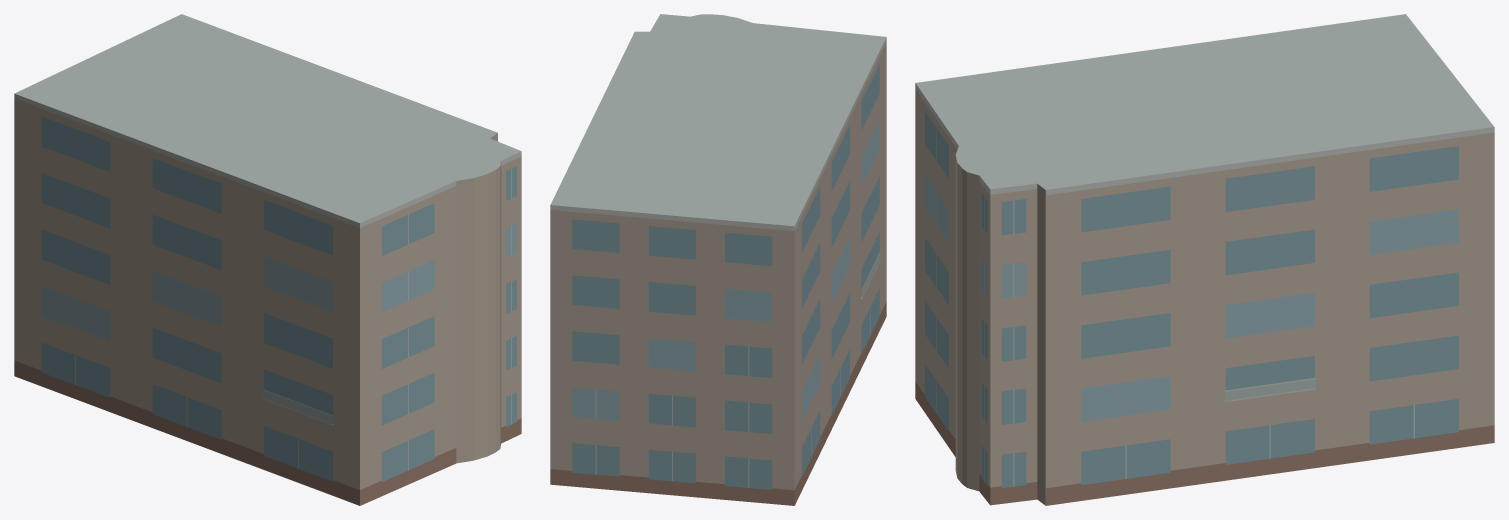
Rendered from survey-upis-32617606.glb.
3 renders of one model, left to right at view 1: azimuth 30°, elevation 25°; view 2: azimuth 150°, elevation 25°; view 3: azimuth 270°, elevation 25°, orthographic. The views are drawn at different scales.
Parts seen in each view (by area): view 1: survey-upis-32617606.tmp; view 2: survey-upis-32617606.tmp; view 3: survey-upis-32617606.tmp.
Boxes of the visible parts, x1,y1,x2,y2 form: survey-upis-32617606.tmp: (14, 14, 521, 505); survey-upis-32617606.tmp: (550, 14, 886, 505); survey-upis-32617606.tmp: (915, 14, 1494, 505).
Size of the model in its own units: 16.74 by 14 by 23.27.
